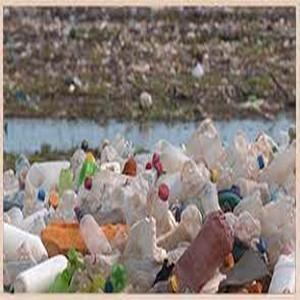Plastic: (75, 203, 111, 254)
